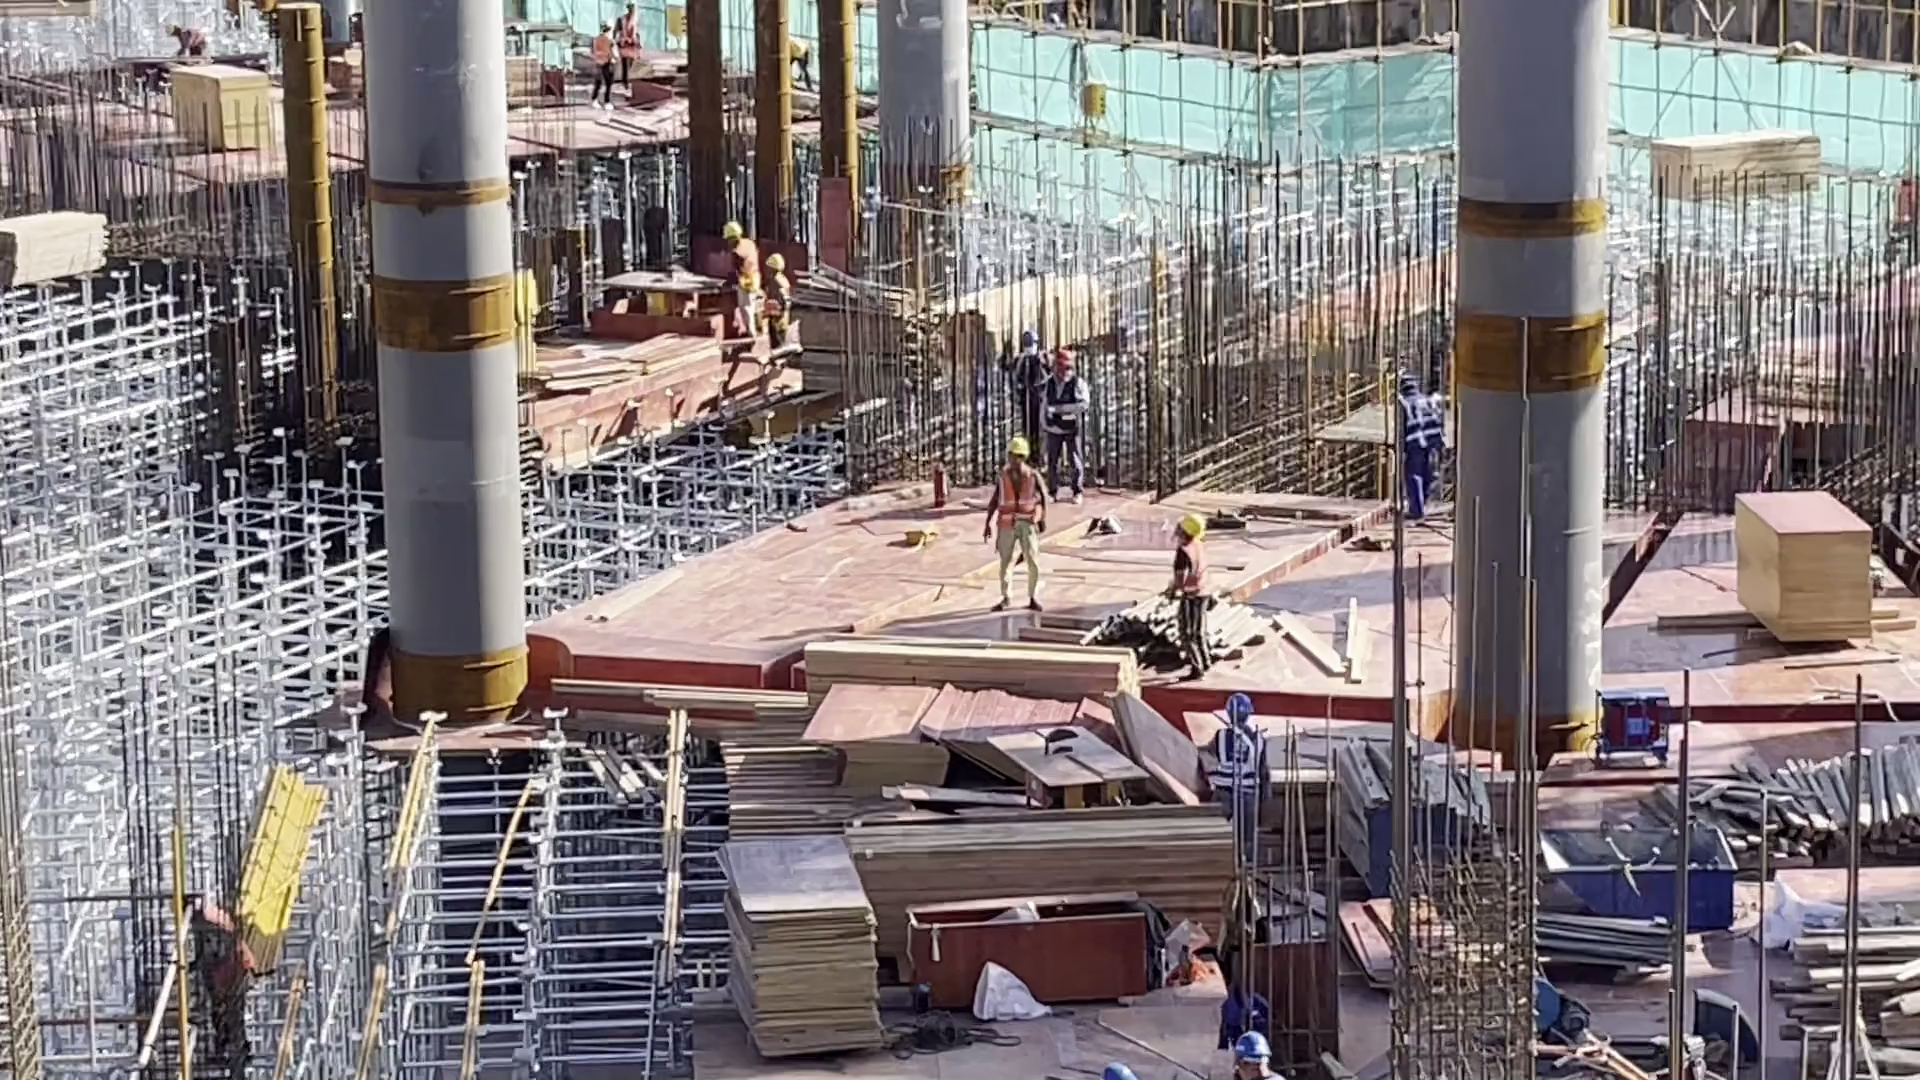board: (696, 647, 1147, 898), (718, 813, 892, 1055), (1737, 483, 1920, 680), (1651, 123, 1834, 215)
helmet: (1221, 692, 1262, 729), (1225, 1028, 1268, 1059), (1001, 430, 1026, 463), (1173, 515, 1201, 542), (719, 215, 740, 243), (1052, 346, 1072, 372), (1394, 376, 1415, 400), (1017, 331, 1036, 354), (162, 16, 181, 37), (600, 17, 615, 34), (758, 250, 762, 270)
hopper: (1532, 794, 1747, 927), (911, 902, 1157, 1005)
person: (1156, 506, 1234, 694), (984, 442, 1061, 620), (1207, 695, 1269, 859), (1038, 348, 1097, 500), (1388, 370, 1445, 520), (999, 326, 1050, 451), (706, 221, 768, 315), (1216, 1028, 1286, 1080), (616, 6, 648, 97), (586, 16, 614, 115), (776, 36, 818, 92), (157, 22, 211, 66), (761, 253, 798, 305)
vest: (1044, 377, 1090, 451), (998, 471, 1040, 550), (1400, 404, 1441, 464), (1219, 733, 1259, 794), (1170, 544, 1202, 604), (730, 238, 761, 296)
wood: (1688, 734, 1920, 874), (544, 327, 704, 476), (3, 200, 114, 286)
